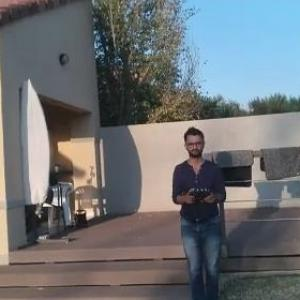follow: (166, 121, 233, 299)
